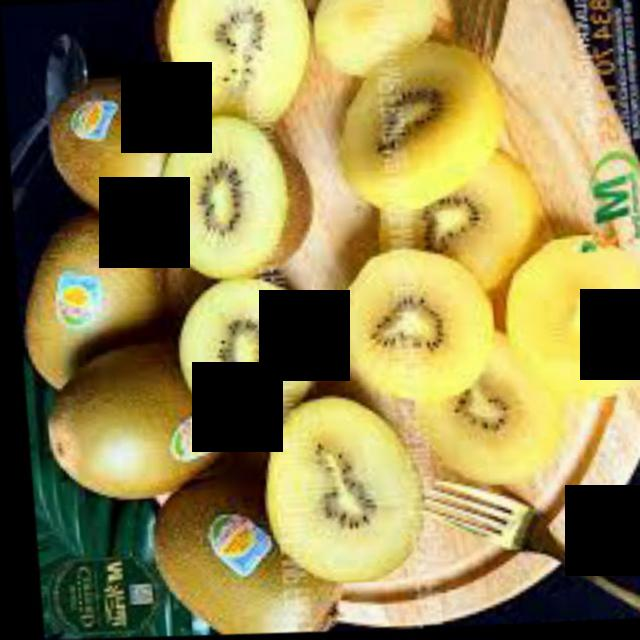kiwi: (139, 466, 350, 638), (36, 346, 236, 504), (16, 218, 167, 402), (43, 82, 197, 227)
